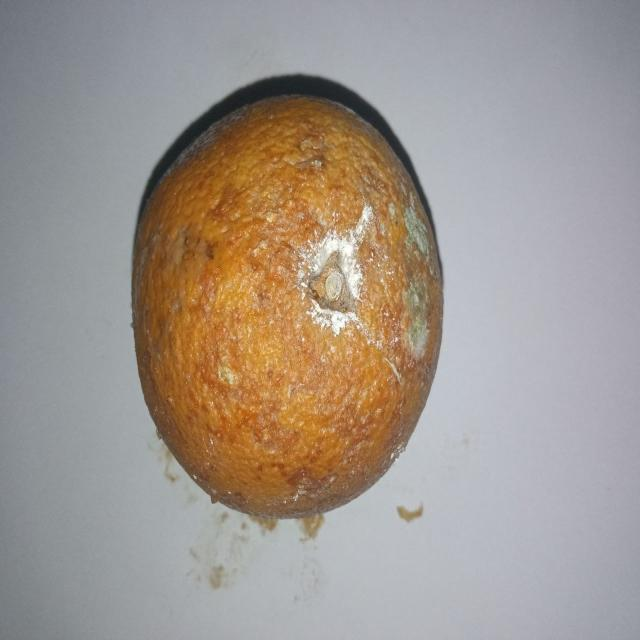rotten_orange: (131, 92, 441, 518)
